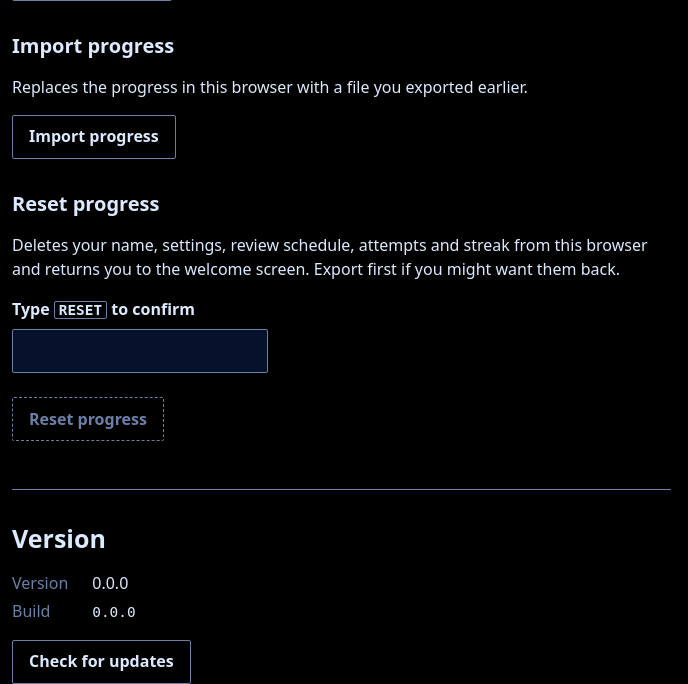
Test: Settings › shows the version and answers the update check
(page scrolled)
expect the text "Build" is shown: met, box top-left (12, 600), bottom-right (50, 622)
What coordinates should you click on to do the following:
click the button "Check for updates"
I would click on:
 (101, 662)
Its box is top-left (12, 640), bottom-right (191, 683).
(page scrolled)
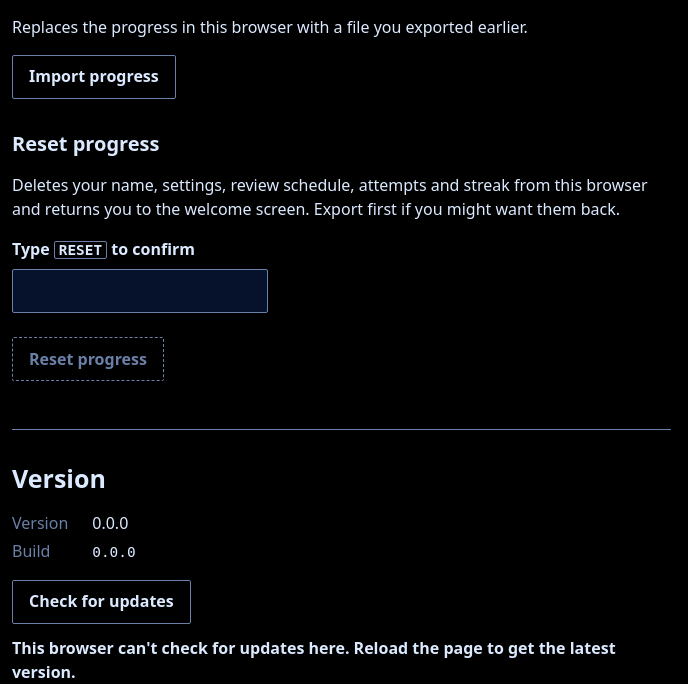
expect the text "This browser can't check for updates here. Reload the page to get the latest version." is shown: met, box top-left (12, 636), bottom-right (616, 682)
